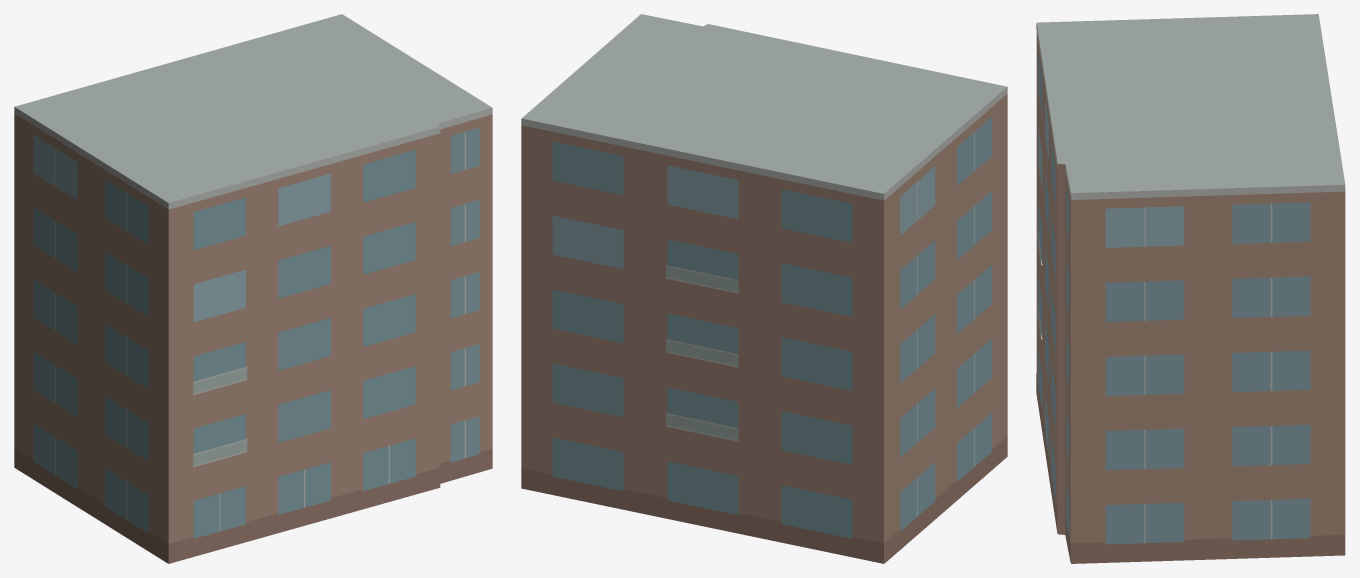
File: survey-upis-32654819.glb
3 renders of one model, left to right at view 1: azimuth 30°, elevation 25°; view 2: azimuth 150°, elevation 25°; view 3: azimuth 270°, elevation 25°, orthographic. The views are drawn at different scales.
Parts seen in each view (by area): view 1: survey-upis-32654819.tmp; view 2: survey-upis-32654819.tmp; view 3: survey-upis-32654819.tmp.
Part boxes in pixels (box(x1,y1,x2,y2)): survey-upis-32654819.tmp: box(14, 14, 492, 563); survey-upis-32654819.tmp: box(521, 14, 1007, 563); survey-upis-32654819.tmp: box(1036, 14, 1345, 563).
Bounding box in the file's own units: 13.91 × 13.4 × 10.13.
